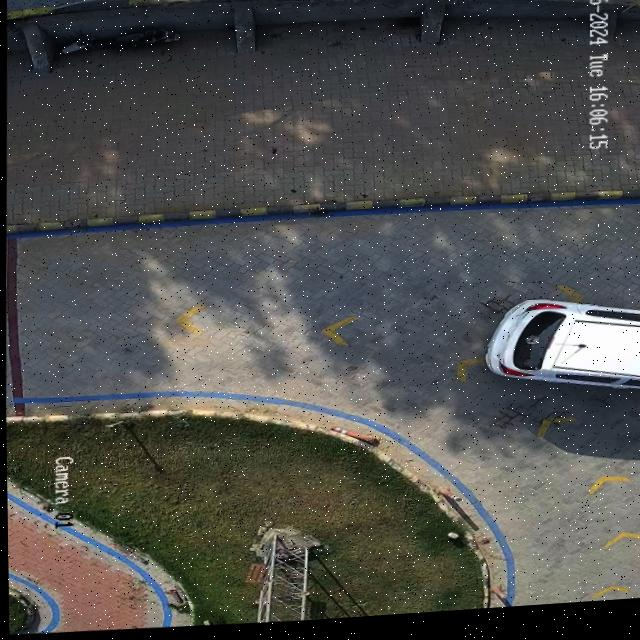car: (484, 307, 640, 397)
